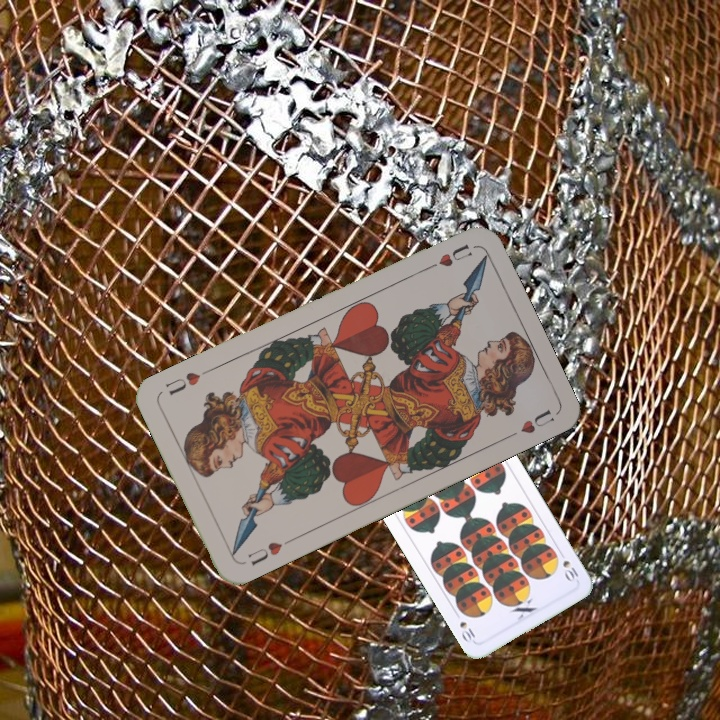HU: (420, 240, 475, 273), (243, 537, 285, 568)
S10: (555, 547, 581, 584)
